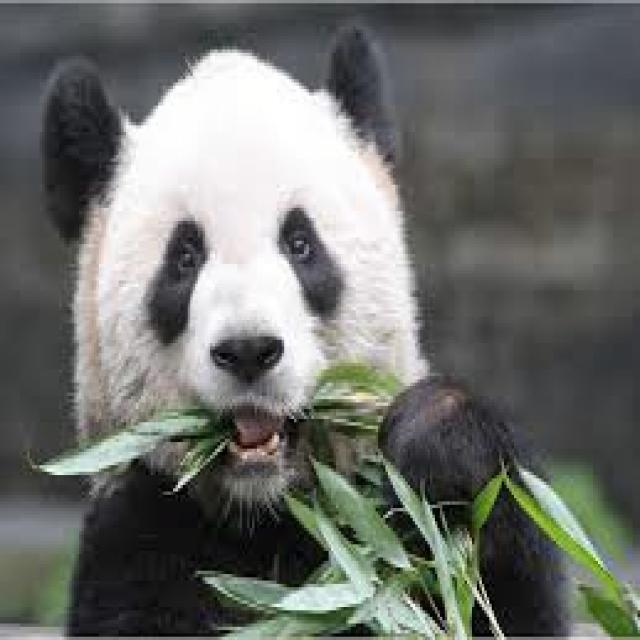panda: (42, 26, 568, 633)
